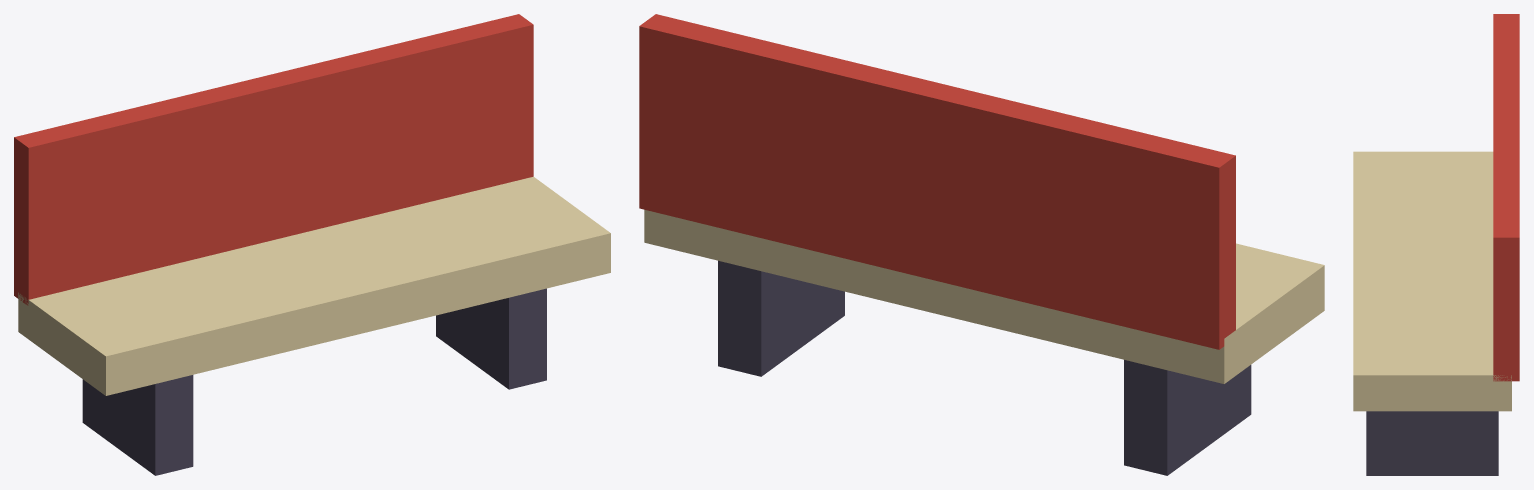
3 views of the same model, side by side, from view 1: azimuth 30°, elevation 25°; view 2: azimuth 150°, elevation 25°; view 3: azimuth 270°, elevation 25° (orthographic). The views are drawn at different scales.
Parts seen in each view (by area): view 1: RC-023 Public bench batched; view 2: RC-023 Public bench batched; view 3: RC-023 Public bench batched.
Part boxes in pixels (x1,y1,x2,y2): RC-023 Public bench batched: (14,14,610,475); RC-023 Public bench batched: (639,14,1324,475); RC-023 Public bench batched: (1353,14,1519,475).
Bounding box in the file's own units: 2 × 1.1 × 0.63.
